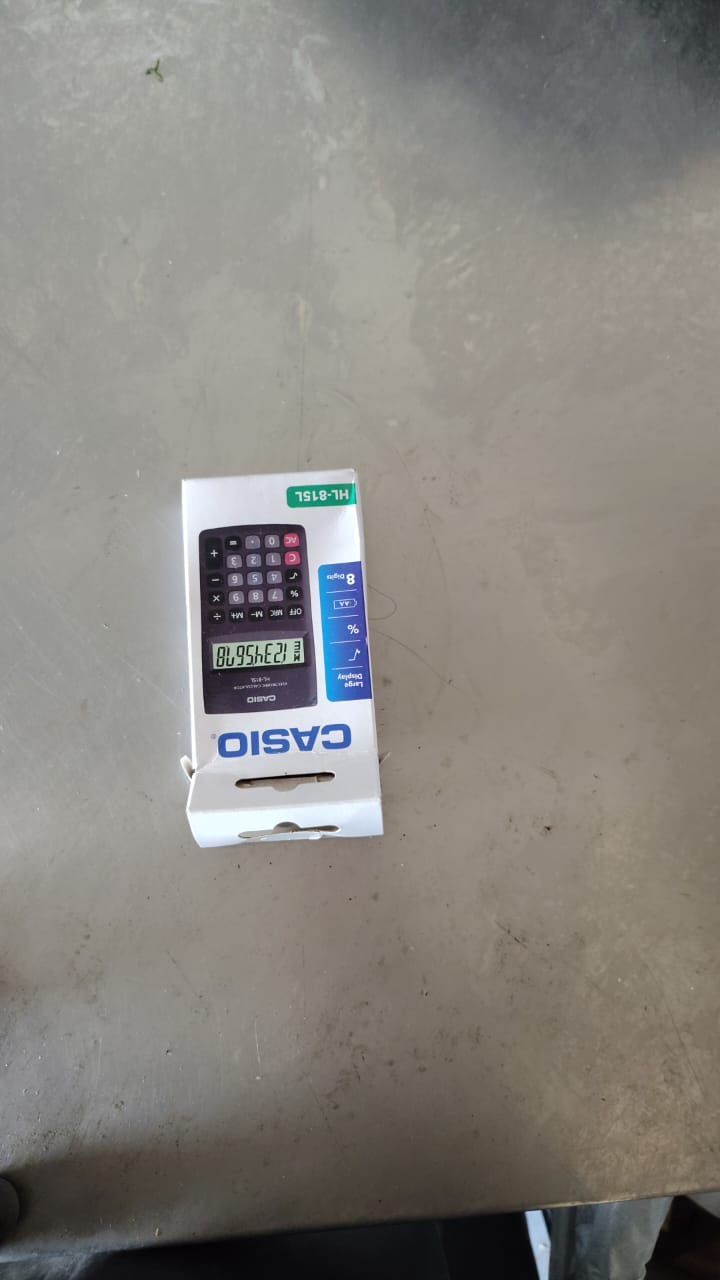Carton: (182, 470, 382, 848)
